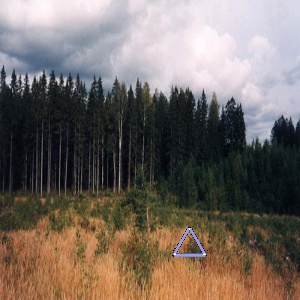triangle: (170, 226, 211, 259)
